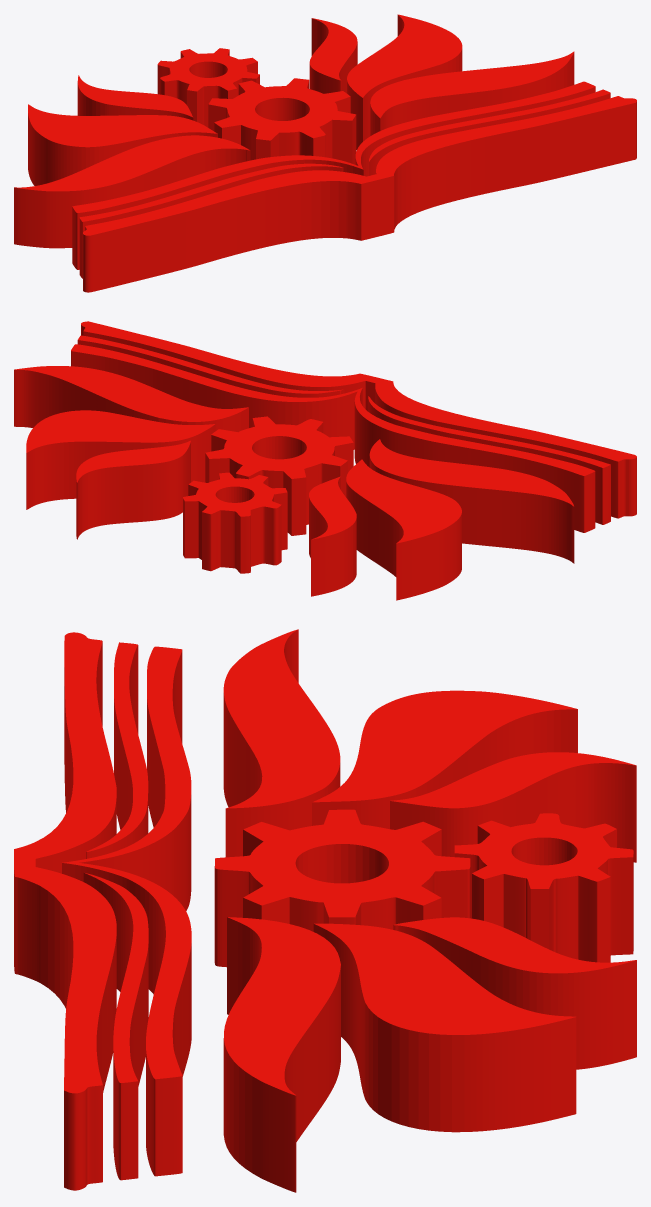
The model's file is ace.obj.
3 renders of one model, top to bottom at view 1: azimuth 30°, elevation 25°; view 2: azimuth 150°, elevation 25°; view 3: azimuth 270°, elevation 25°, orthographic. The views are drawn at different scales.
Visible parts, largest first — view 1: Curve.004; view 2: Curve.004; view 3: Curve.004.
Boxes of the visible parts, x1,y1,x2,y2 form: Curve.004: [14, 14, 636, 292]; Curve.004: [14, 321, 636, 600]; Curve.004: [14, 629, 636, 1192].
Size of the model in its own units: 0.2023 by 0.0196 by 0.1142.
